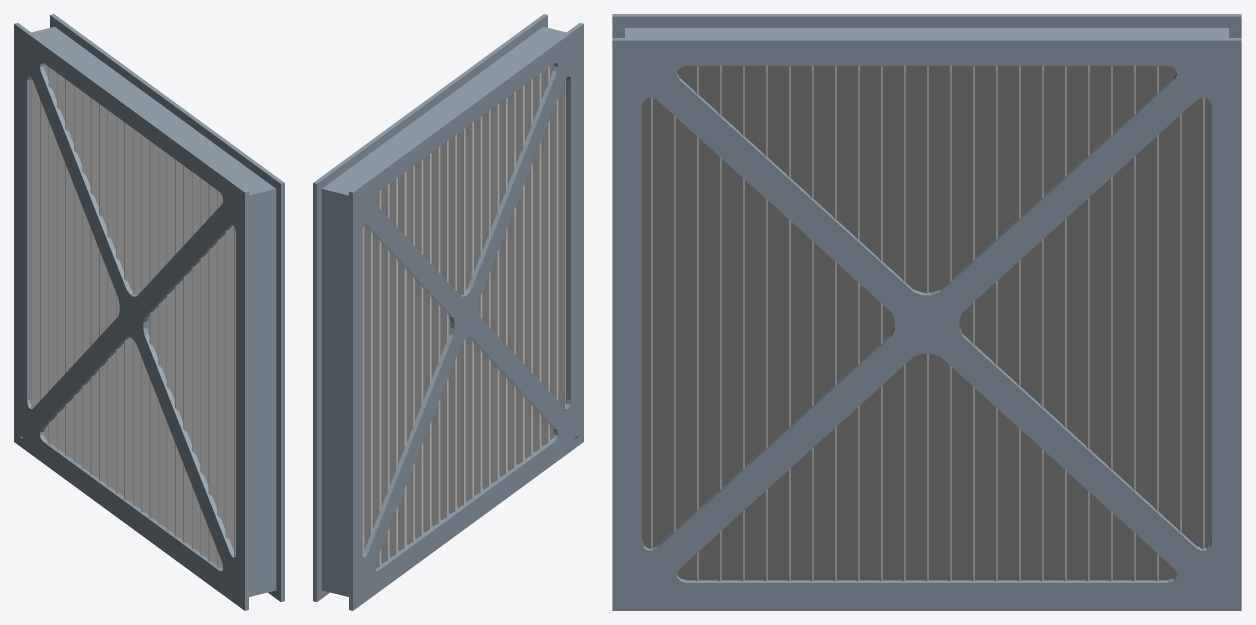
File: AirFilter.glb
3 views of the same model, side by side, from view 1: azimuth 30°, elevation 25°; view 2: azimuth 150°, elevation 25°; view 3: azimuth 270°, elevation 25° (orthographic). The views are drawn at different scales.
Visible parts, largest first — view 1: child.004, child.001, child.002; view 2: child.004, child.001, child.002; view 3: child.004, child.003, child.001.
Part boxes in pixels (x1,y1,x2,y2): child.004: (31, 63, 235, 568); child.001: (14, 14, 284, 610); child.002: (21, 38, 239, 595); child.004: (362, 63, 565, 568); child.001: (313, 14, 583, 610); child.002: (358, 38, 576, 595); child.004: (642, 66, 1211, 581); child.003: (626, 53, 1227, 596); child.001: (612, 14, 1241, 610).
Bounding box in the file's own units: 100 × 1000 × 1000.
